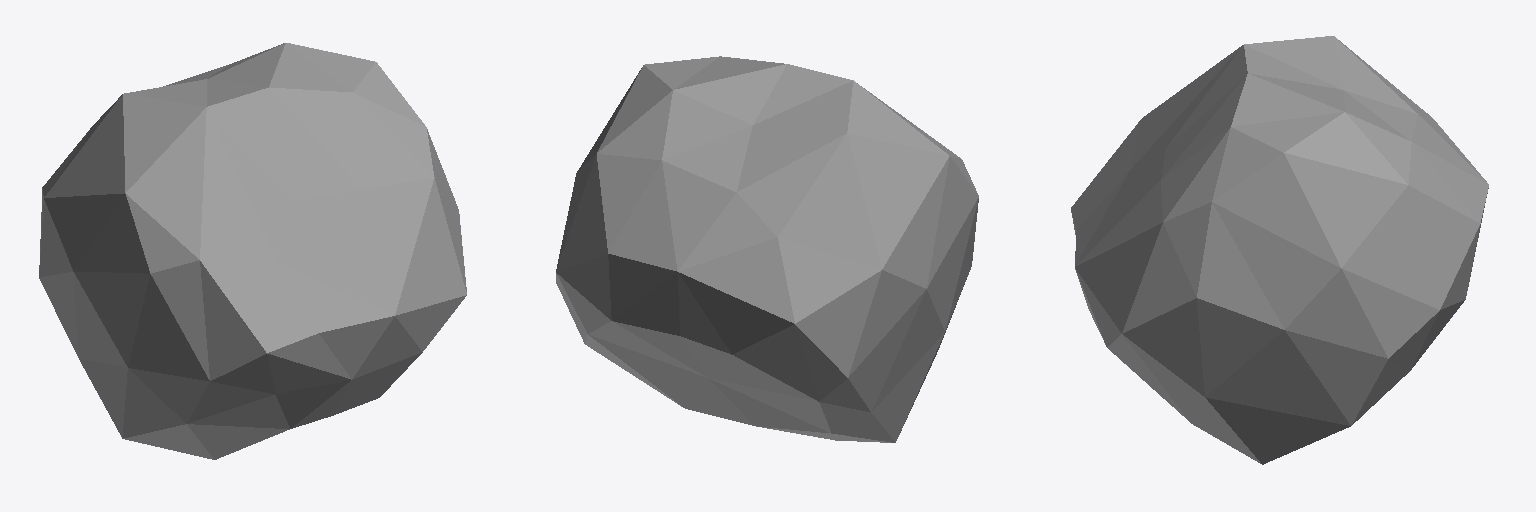
Rendered from nodes_nature_cobble3.obj.
The picture shows the model from 3 angles: view 1: azimuth 30°, elevation 25°; view 2: azimuth 150°, elevation 25°; view 3: azimuth 270°, elevation 25°; orthographic projection.
Parts seen in each view (by area): view 1: Icosphere.001_Icosphere.001; view 2: Icosphere.001_Icosphere.001; view 3: Icosphere.001_Icosphere.001.
Part boxes in pixels (x1,y1,x2,y2): Icosphere.001_Icosphere.001: (39, 43, 466, 459); Icosphere.001_Icosphere.001: (556, 56, 978, 442); Icosphere.001_Icosphere.001: (1071, 36, 1488, 464).
Size of the model in its own units: 0.4485 by 0.4548 by 0.4763.